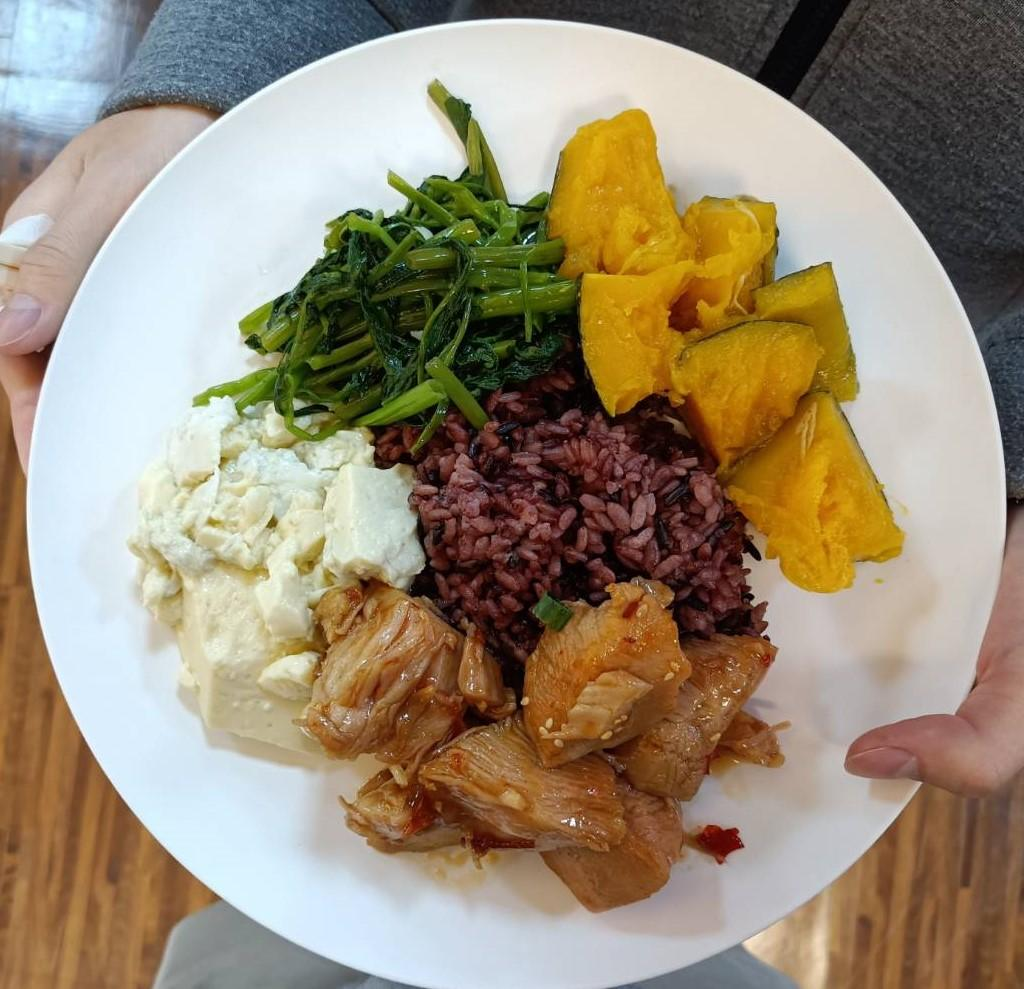big herbal chicken leg: (32, 10, 1024, 989)
braised fish: (386, 360, 763, 643)
braised fish fillet: (554, 108, 905, 592), (212, 77, 568, 446), (131, 394, 422, 761)
braised pork: (305, 573, 786, 909)
